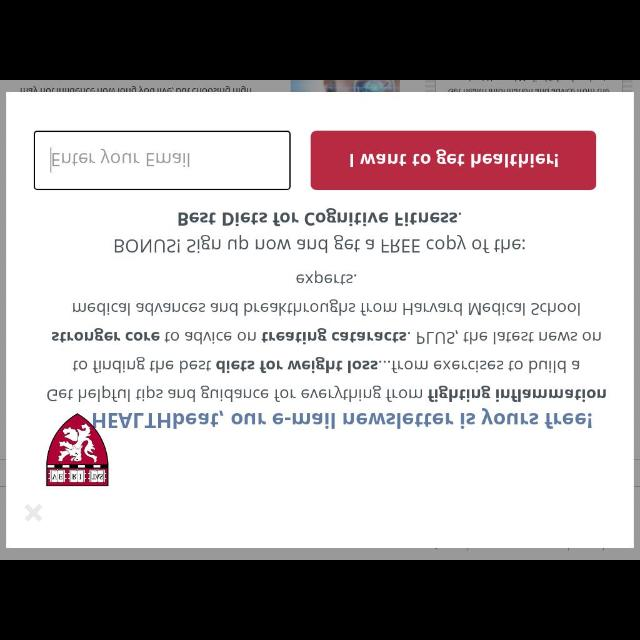icon: (25, 503, 43, 522)
image: (47, 415, 109, 487)
input: (35, 132, 292, 190)
text: (47, 268, 608, 404), (114, 208, 526, 252), (93, 408, 593, 429), (350, 150, 562, 168), (52, 146, 192, 168)
textbutton: (310, 131, 596, 189)
